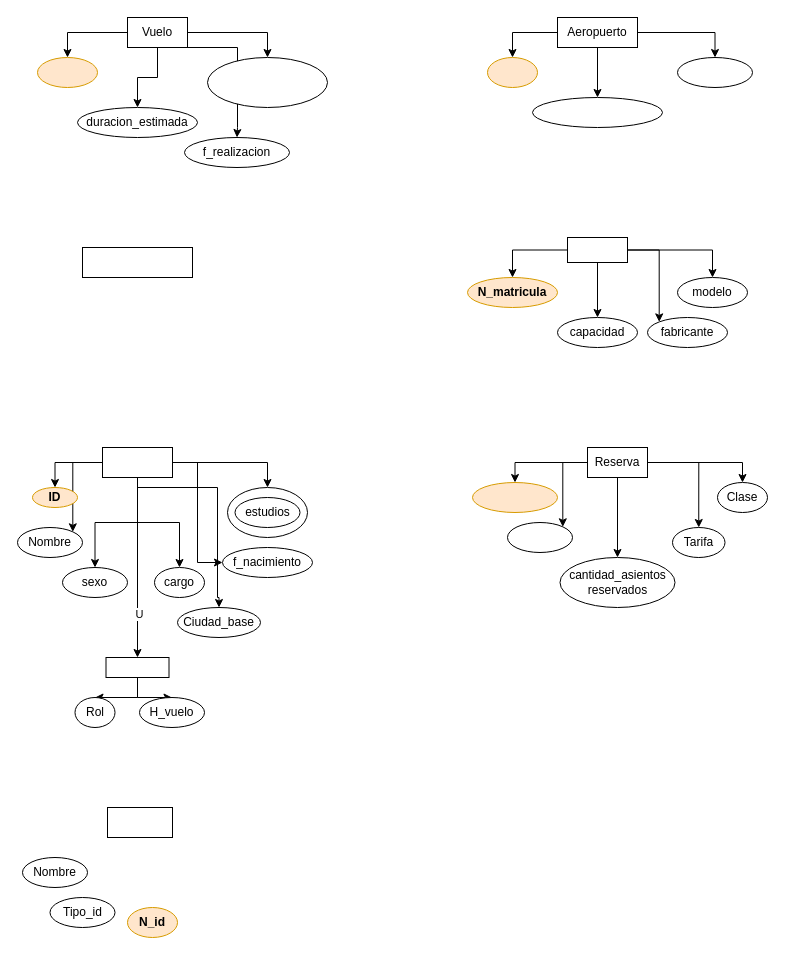
Image size: 785x955. Some labels were removed from this diagram. The centre of each missing label's shape, as x and y in pixels:
"Avion" belongs at [597,249].
"Categoria" belongs at [714,72].
"Cod_id" belongs at [67,72].
"Cod_unico" belongs at [515,497].
"f_registro" belongs at [539,537].
"hora_programada salida" belongs at [267,82].
"IATA" belongs at [512,72].
"jurisdiccion_ciudad" belongs at [597,112].
"Parada_tecnica" belongs at [137,262].
"Pasajero" belongs at [139,822].
"Personal" belongs at [137,462].
"Tripulante" belongs at [137,667].
